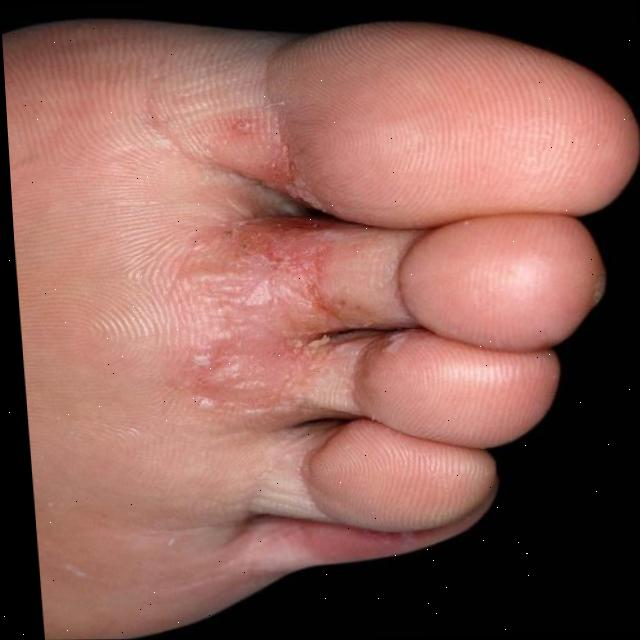Eczema: (173, 124, 388, 483)
